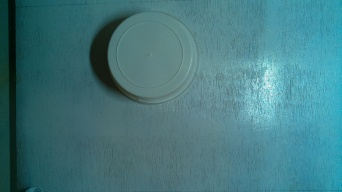f: (105, 9, 209, 113)
